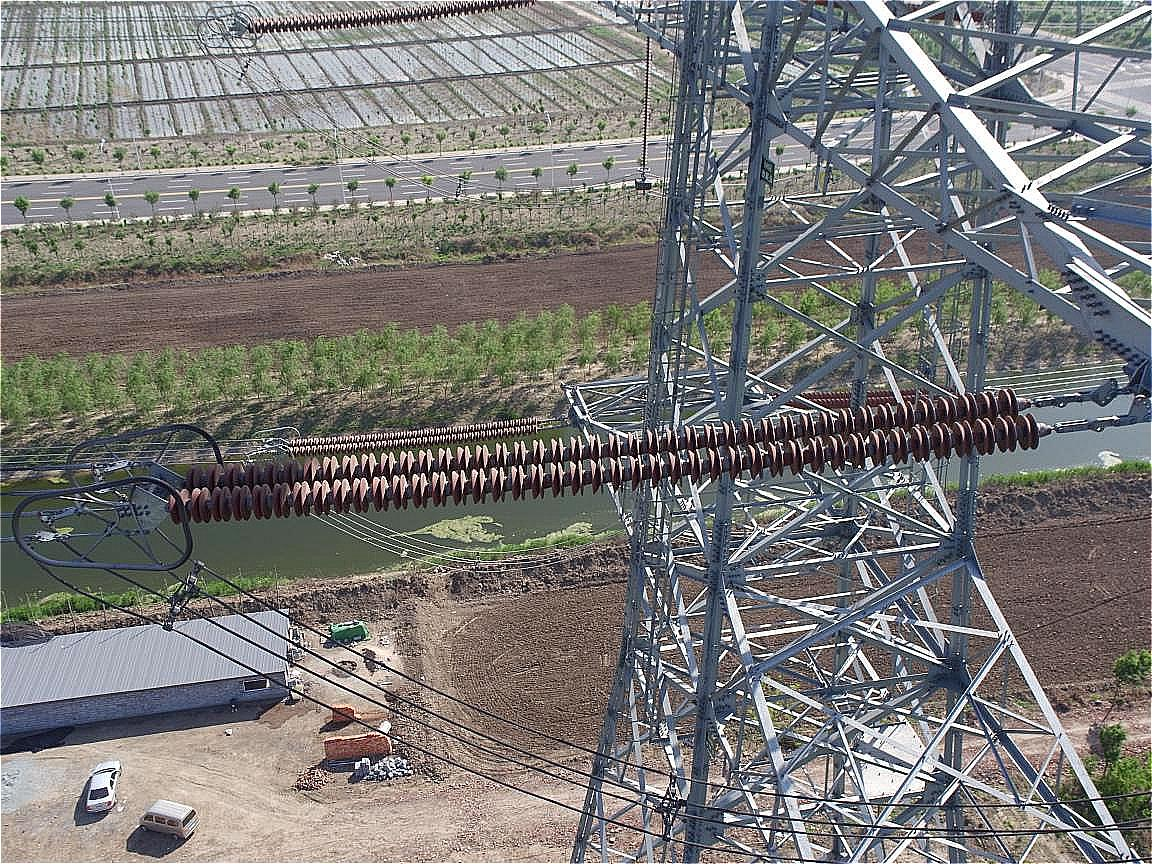insultor2: (171, 386, 1041, 526), (248, 1, 532, 36), (290, 416, 539, 453)
